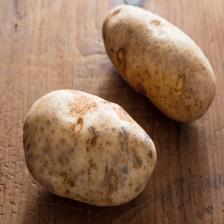Diseased-fungal potato: (23, 87, 158, 209), (102, 3, 216, 125)
